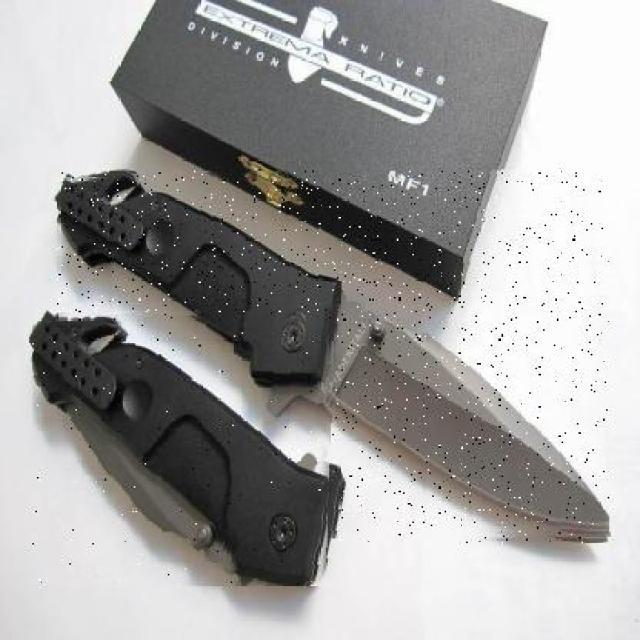knife: (56, 171, 610, 544), (32, 312, 336, 586)
